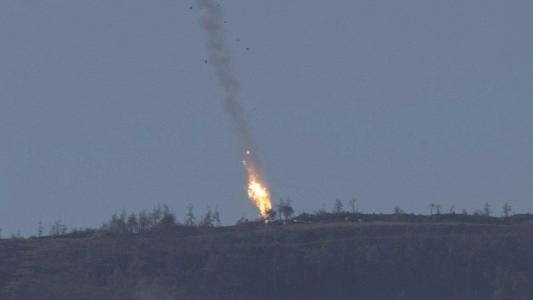fire: (239, 147, 273, 223)
